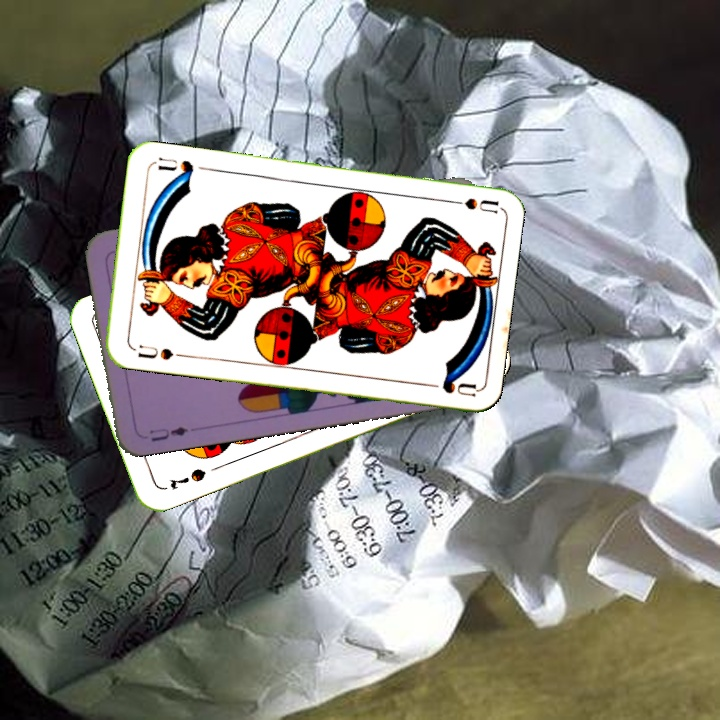EU: (145, 422, 191, 445)
S7: (165, 464, 209, 492)
SU: (128, 340, 187, 363), (439, 194, 499, 216)
